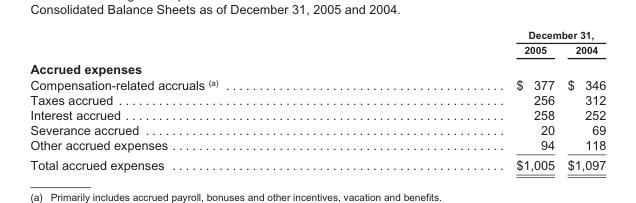table: (29, 28, 605, 171)
table column: (29, 28, 366, 171), (366, 28, 560, 171), (560, 28, 605, 171)
table column header: (29, 28, 605, 58)
table projected row header: (29, 58, 605, 76)
table row: (29, 58, 605, 76), (29, 41, 605, 58), (29, 137, 605, 154), (29, 154, 605, 171), (29, 121, 605, 137), (29, 76, 605, 91), (29, 91, 605, 106), (29, 106, 605, 121), (29, 28, 605, 41)
table spanning cell: (366, 28, 605, 41)
